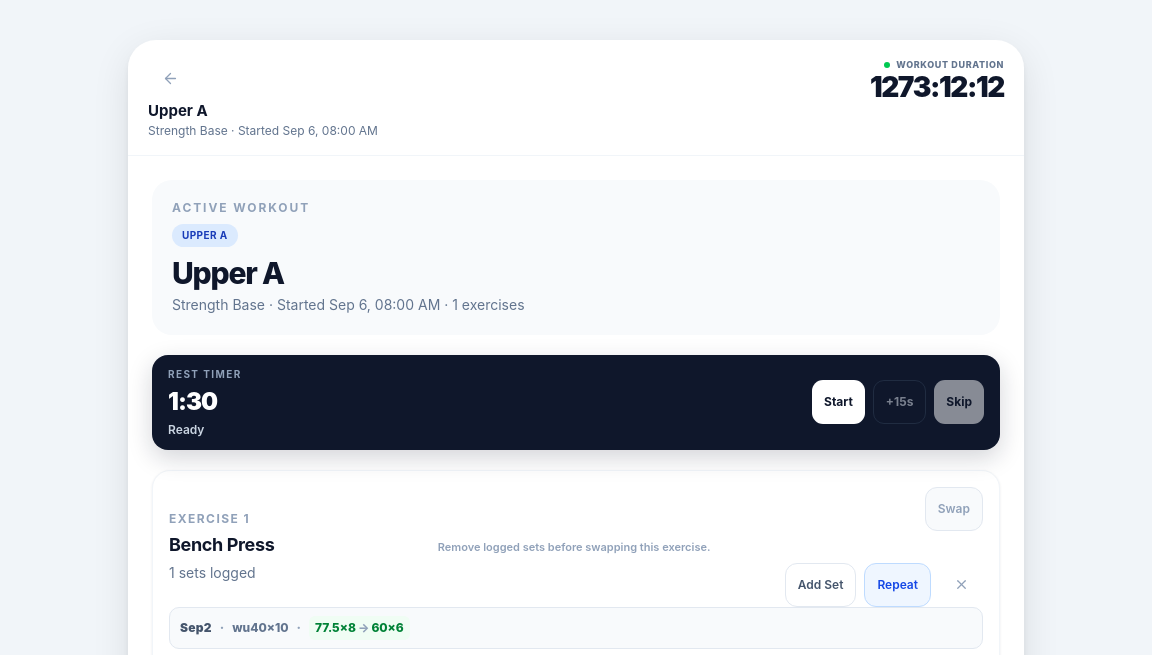
mobile layout contract › uses compact controls and a single-row layout for drop rows
Click the button "Add Set": [821, 584] box [785,562,856,606]
(page scrolled)
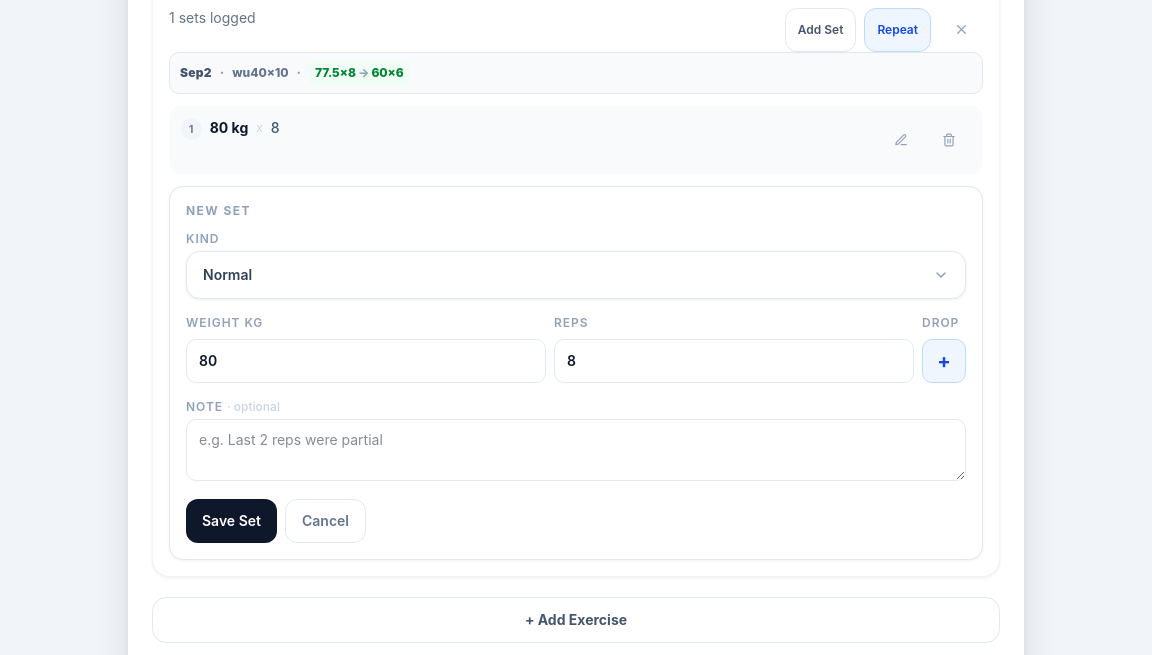
Click the button named "Add drop set": [944, 360] box [922,338,966,382]
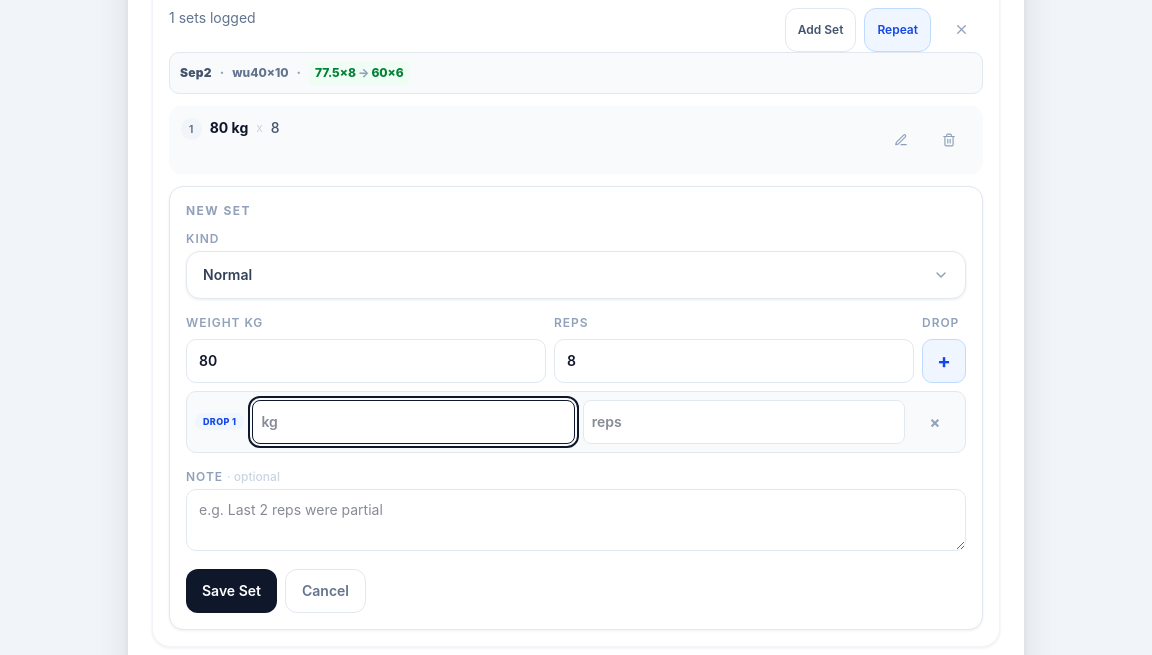
Check: the number field named "Drop 1 weight kg" is shown, box [252,400,575,444]
Check: the number field named "Drop 1 reps" is shown, box [583,400,905,444]
